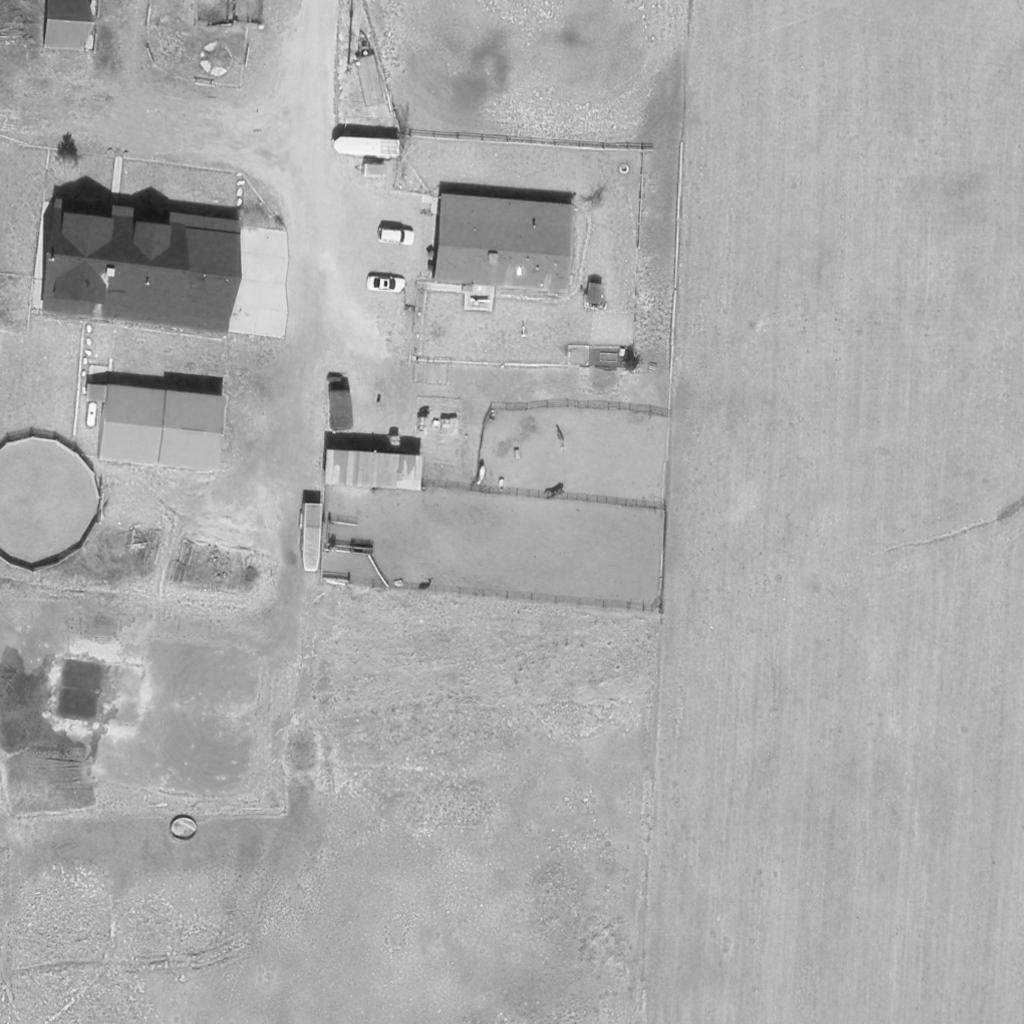vehicle: (366, 272, 408, 294), (376, 225, 416, 247)
